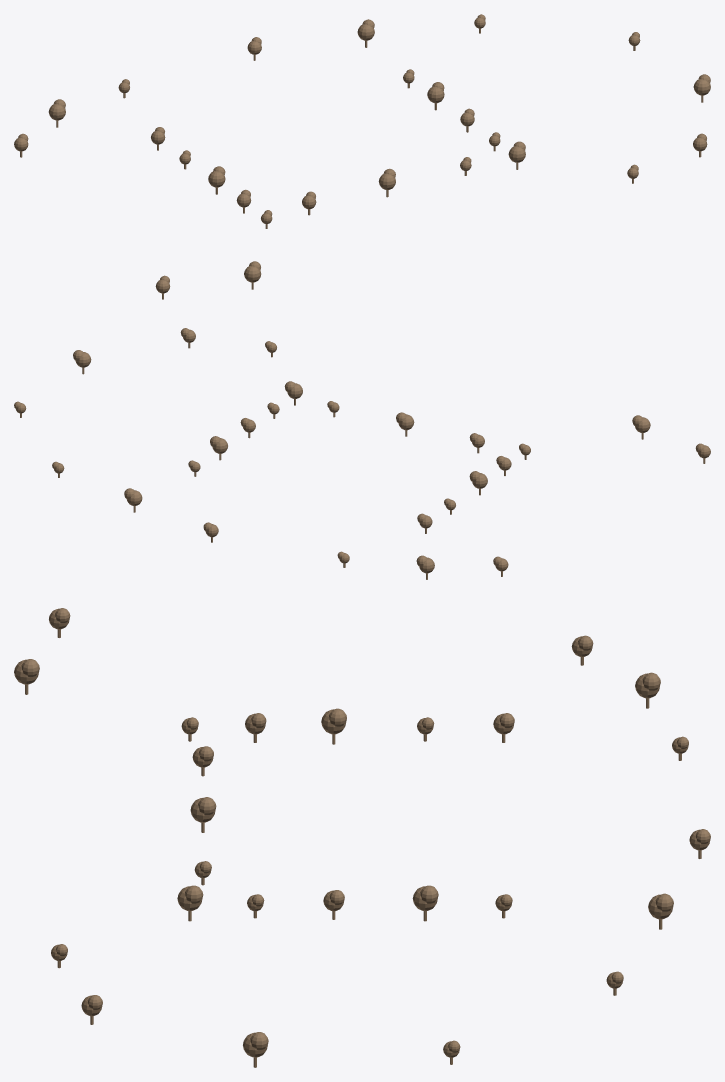
The model's file is trees.glb.
3 renders of one model, top to bottom at view 1: azimuth 30°, elevation 25°; view 2: azimuth 150°, elevation 25°; view 3: azimuth 270°, elevation 25°, orthographic. The views are drawn at different scales.
Size of the model in its own units: 159 by 6.24 by 107.
